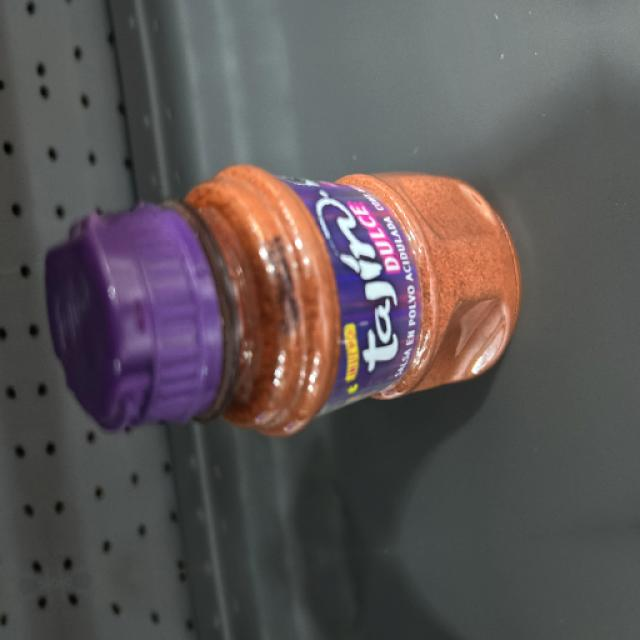tajinDulce: (52, 172, 507, 402)
